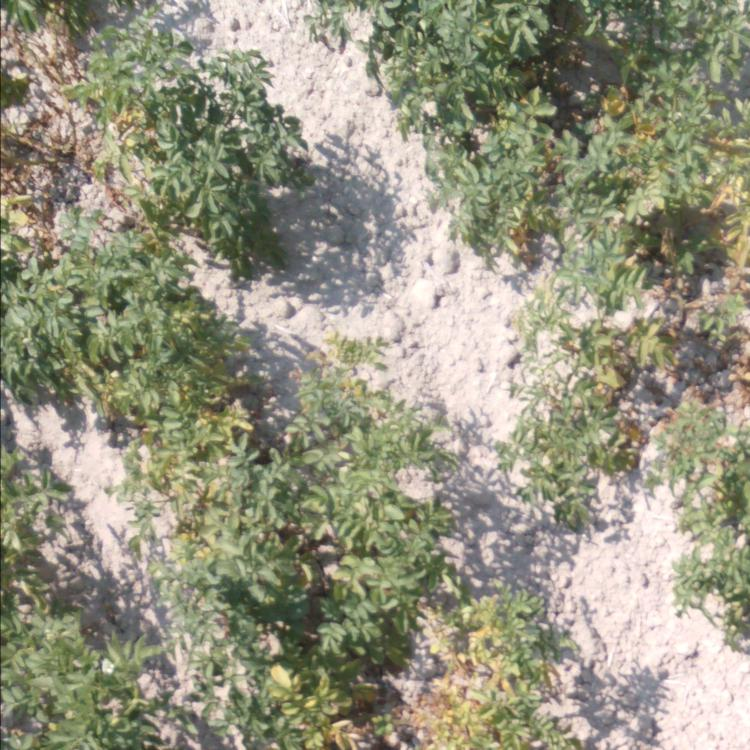healthy: (152, 40, 276, 269), (277, 394, 436, 556), (1, 569, 143, 740), (326, 1, 563, 80), (176, 567, 402, 632), (669, 466, 750, 639), (582, 5, 739, 67), (1, 295, 93, 398), (7, 444, 65, 557)
stressed: (562, 269, 750, 434), (158, 639, 406, 746), (96, 304, 253, 466), (603, 104, 749, 264), (456, 100, 595, 258), (6, 138, 151, 275), (10, 1, 143, 127), (428, 602, 535, 744), (176, 472, 252, 562)
